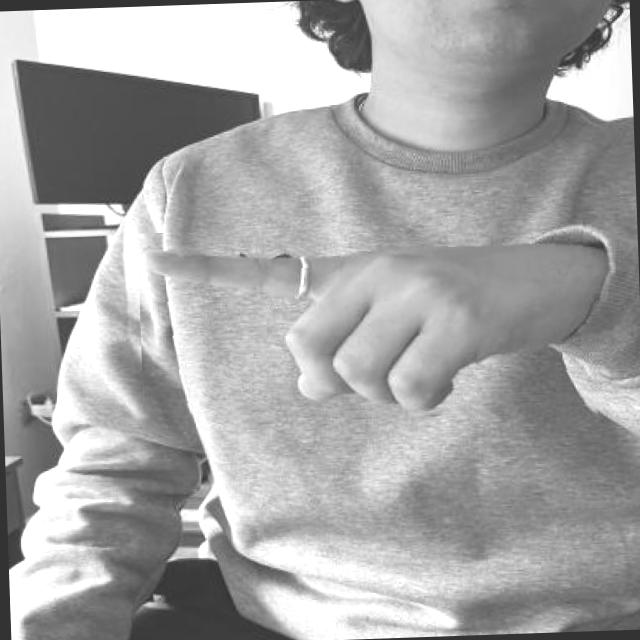S: (137, 218, 603, 430)
